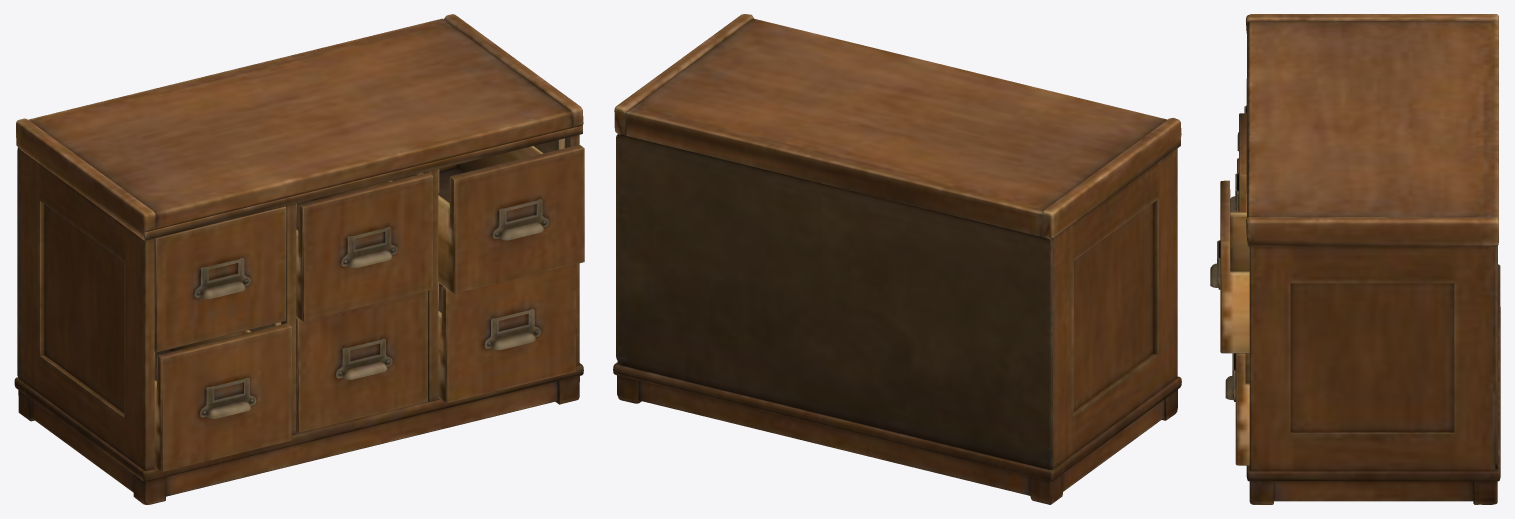
File: vintage_wooden_drawer_01.gltf
3 views of the same model, side by side, from view 1: azimuth 30°, elevation 25°; view 2: azimuth 150°, elevation 25°; view 3: azimuth 270°, elevation 25° (orthographic). The views are drawn at different scales.
Visible parts, largest first — view 1: vintage_wooden_drawer_01_body, vintage_wooden_drawer_01_drawer03, vintage_wooden_drawer_01_drawer04, vintage_wooden_drawer_01_drawer02, vintage_wooden_drawer_01_drawer01, vintage_wooden_drawer_01_drawer06, vintage_wooden_drawer_01_drawer05; view 2: vintage_wooden_drawer_01_body; view 3: vintage_wooden_drawer_01_body, vintage_wooden_drawer_01_drawer03, vintage_wooden_drawer_01_drawer06, vintage_wooden_drawer_01_drawer02.
Part boxes in pixels (<box>): vintage_wooden_drawer_01_body: <box>14,14,583,504</box>; vintage_wooden_drawer_01_drawer03: <box>438,144,584,293</box>; vintage_wooden_drawer_01_drawer04: <box>154,323,291,472</box>; vintage_wooden_drawer_01_drawer02: <box>296,172,432,321</box>; vintage_wooden_drawer_01_drawer01: <box>154,206,286,352</box>; vintage_wooden_drawer_01_drawer06: <box>438,264,576,403</box>; vintage_wooden_drawer_01_drawer05: <box>296,291,427,432</box>; vintage_wooden_drawer_01_body: <box>613,14,1181,504</box>; vintage_wooden_drawer_01_body: <box>1246,14,1500,504</box>; vintage_wooden_drawer_01_drawer03: <box>1210,180,1249,353</box>; vintage_wooden_drawer_01_drawer06: <box>1225,353,1249,465</box>; vintage_wooden_drawer_01_drawer02: <box>1230,113,1246,211</box>.
Bounding box in the file's own units: 1.72 × 1.09 × 1.01.
1 material, 1 textured.
